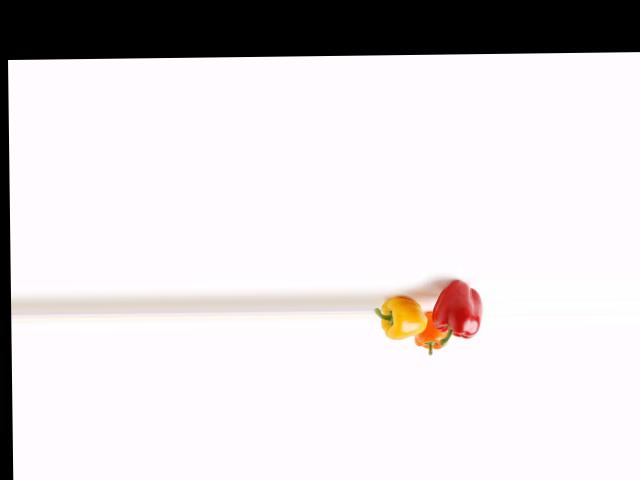bell_pepper: (429, 273, 484, 351)
